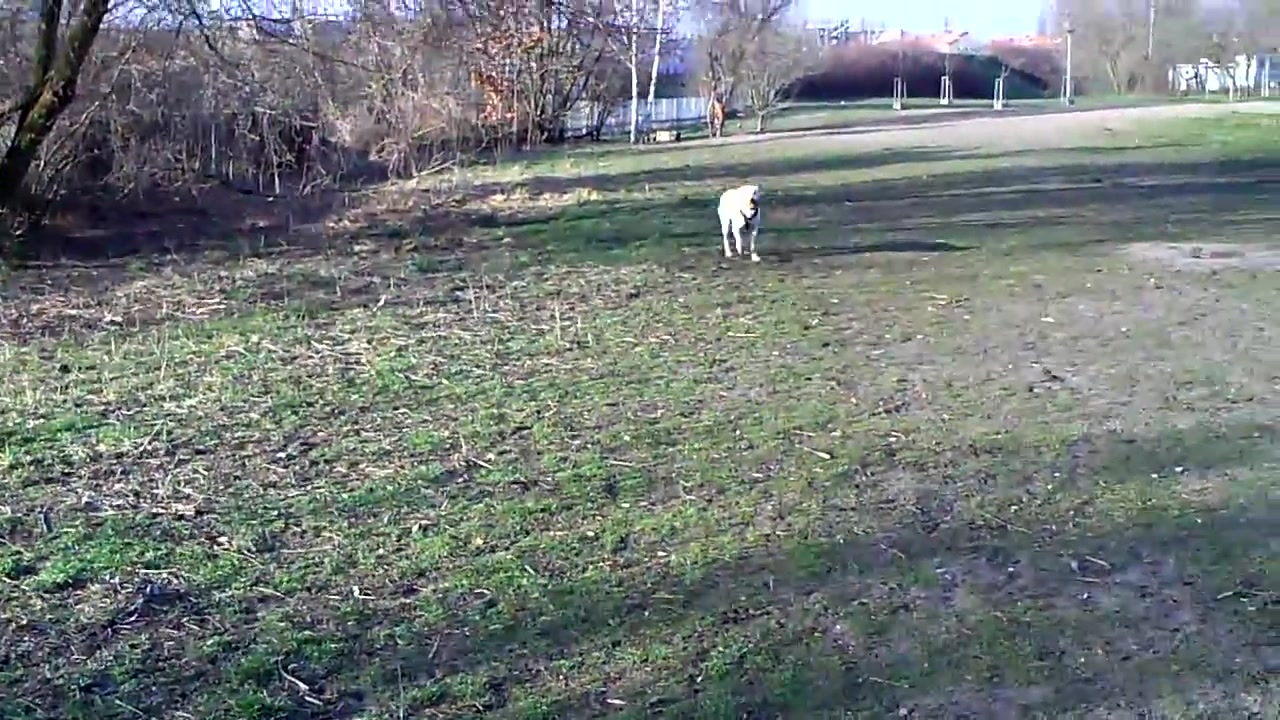dog: (718, 184, 769, 263)
